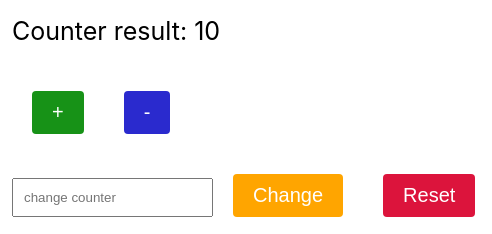
Test: Counter component › should decrement counter from 10 to 7 when props start is 10
Expected: the text with test id "counter" reads "10", [194,16,220,46]
Step 1. Click the button with test id "sub-btn" → x=147, y=112, box [124,91,170,134]
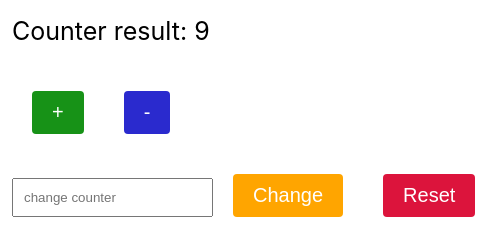
Step 2. Click the button with test id "sub-btn" → x=147, y=112, box [124,91,170,134]
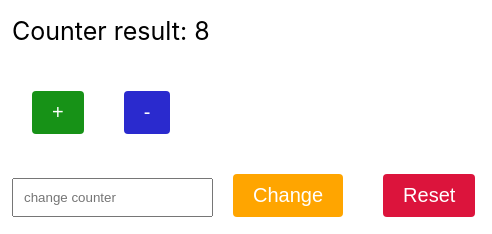
Step 3. Click the button with test id "sub-btn" → x=147, y=112, box [124,91,170,134]
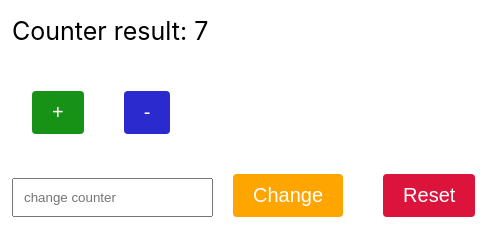
Expected: the text with test id "counter" reads "7", [194,16,208,46]
